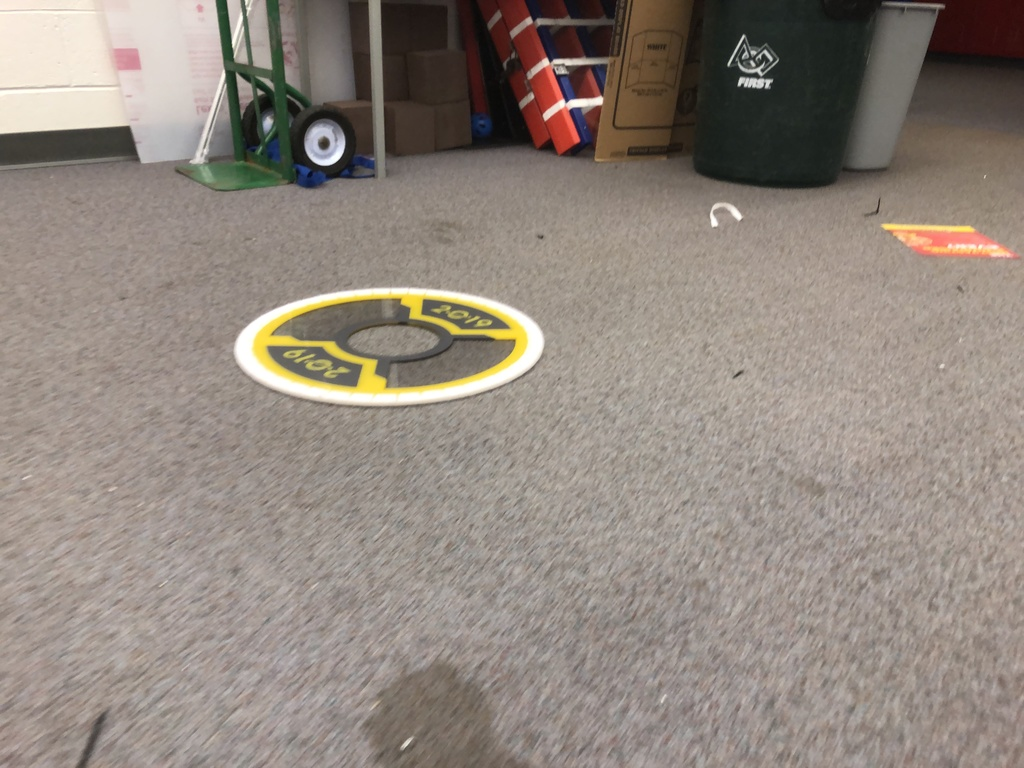hatch_panel: (226, 256, 548, 411)
